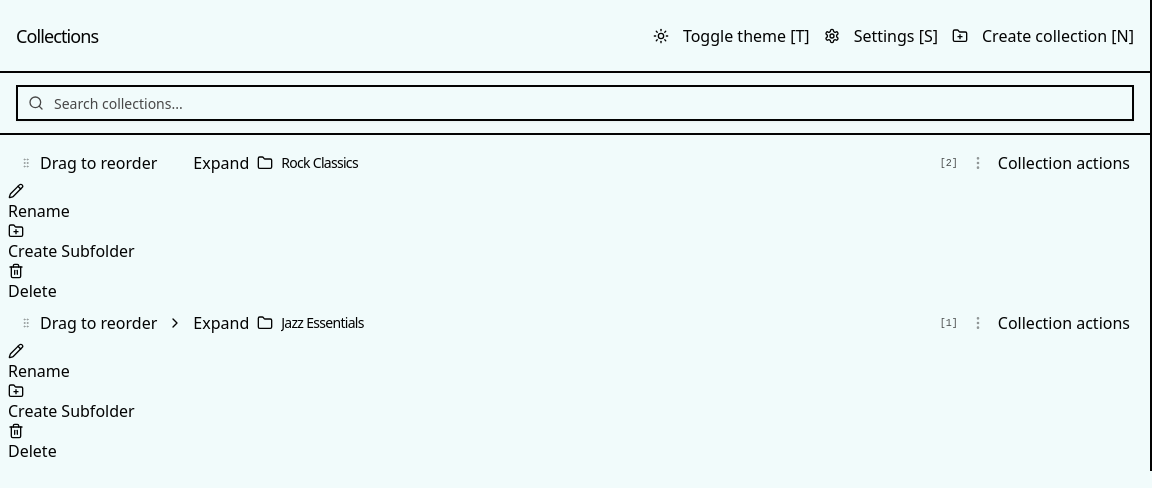
FolderTree Search › filters folders by name
The image size is (1152, 488).
Type "Rock" into the field with placeholder "Search collections..." at (575, 103), box [16,85,1134,121]
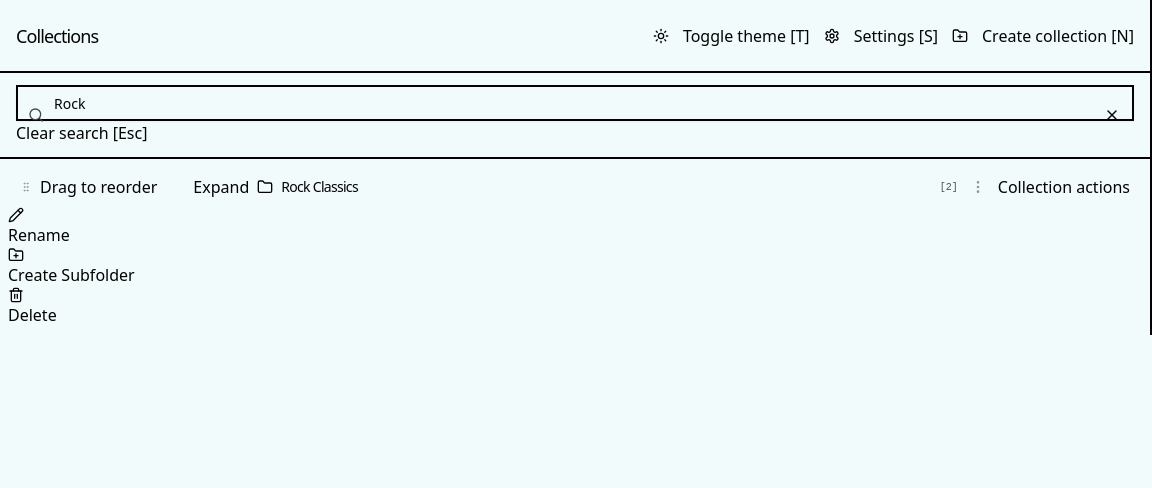
Expected: the text "Rock Classics" is shown, [281,177,358,196]
Expected: the text "Jazz Essentials" is gone
